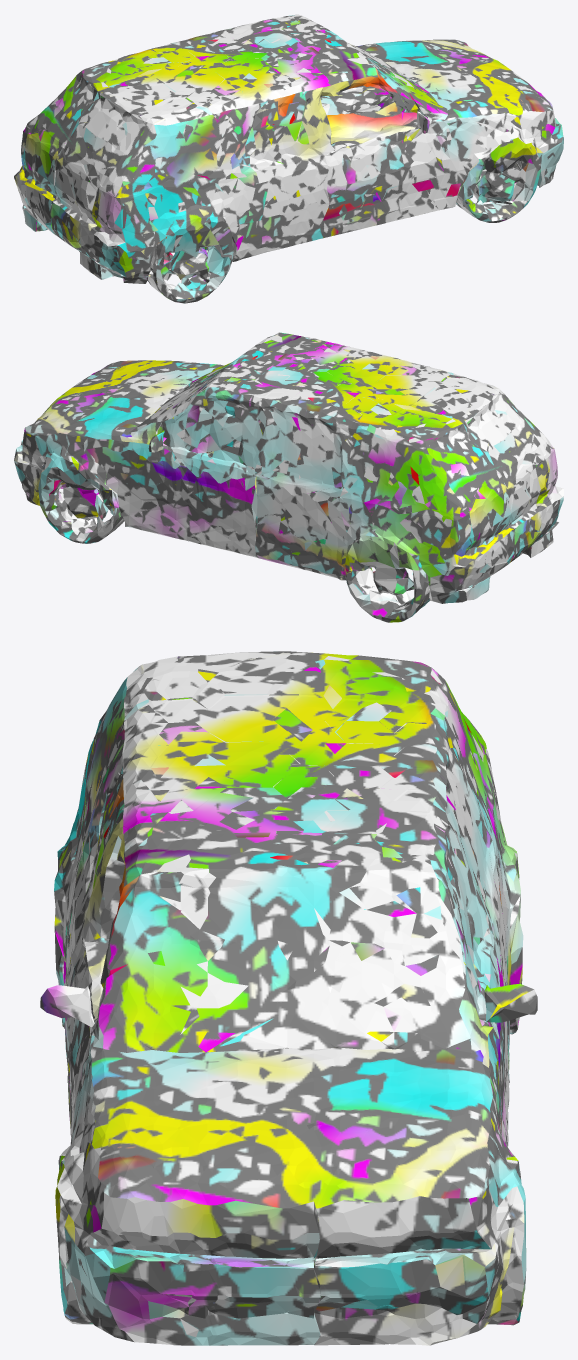
The picture shows the model from 3 angles, top to bottom: view 1: azimuth 30°, elevation 25°; view 2: azimuth 150°, elevation 25°; view 3: azimuth 270°, elevation 25°; orthographic projection. The views are drawn at different scales.
Bounding box in the file's own units: 0.9009 × 0.3257 × 0.4135.
